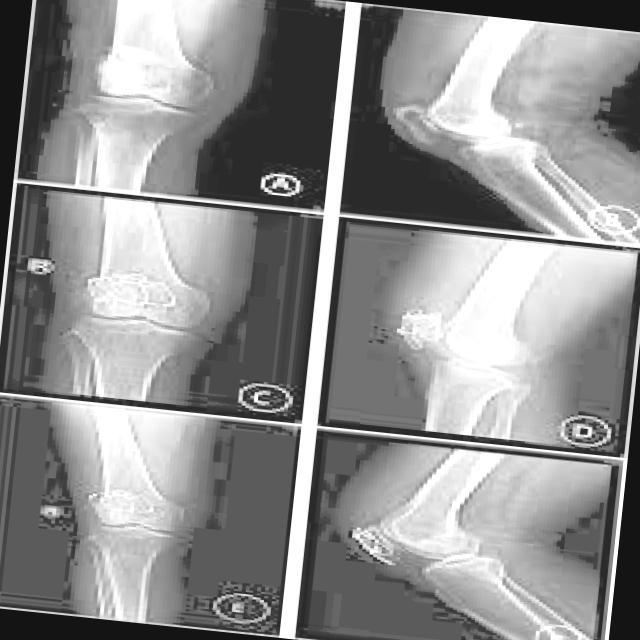Comminuted Fracture: (325, 521, 403, 570)
